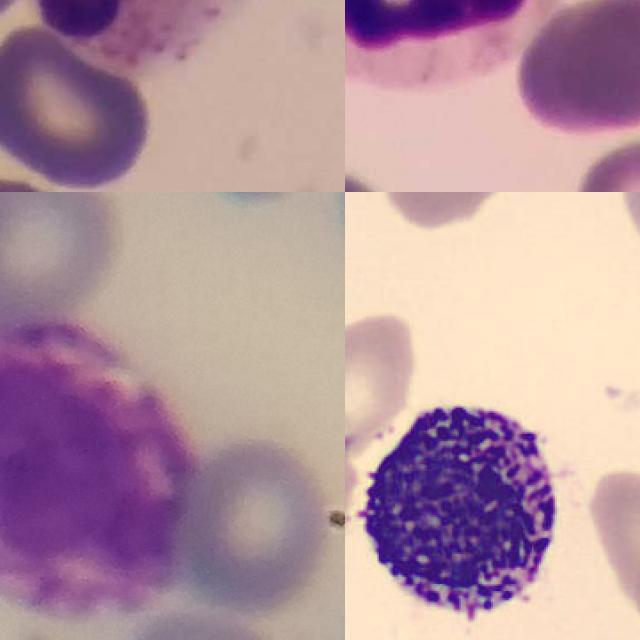Basophil: (0, 318, 197, 623), (345, 386, 574, 640)
Neutrophil: (345, 0, 567, 89), (30, 0, 290, 72)
RBC: (345, 305, 422, 456), (578, 460, 640, 640), (370, 192, 517, 235)
